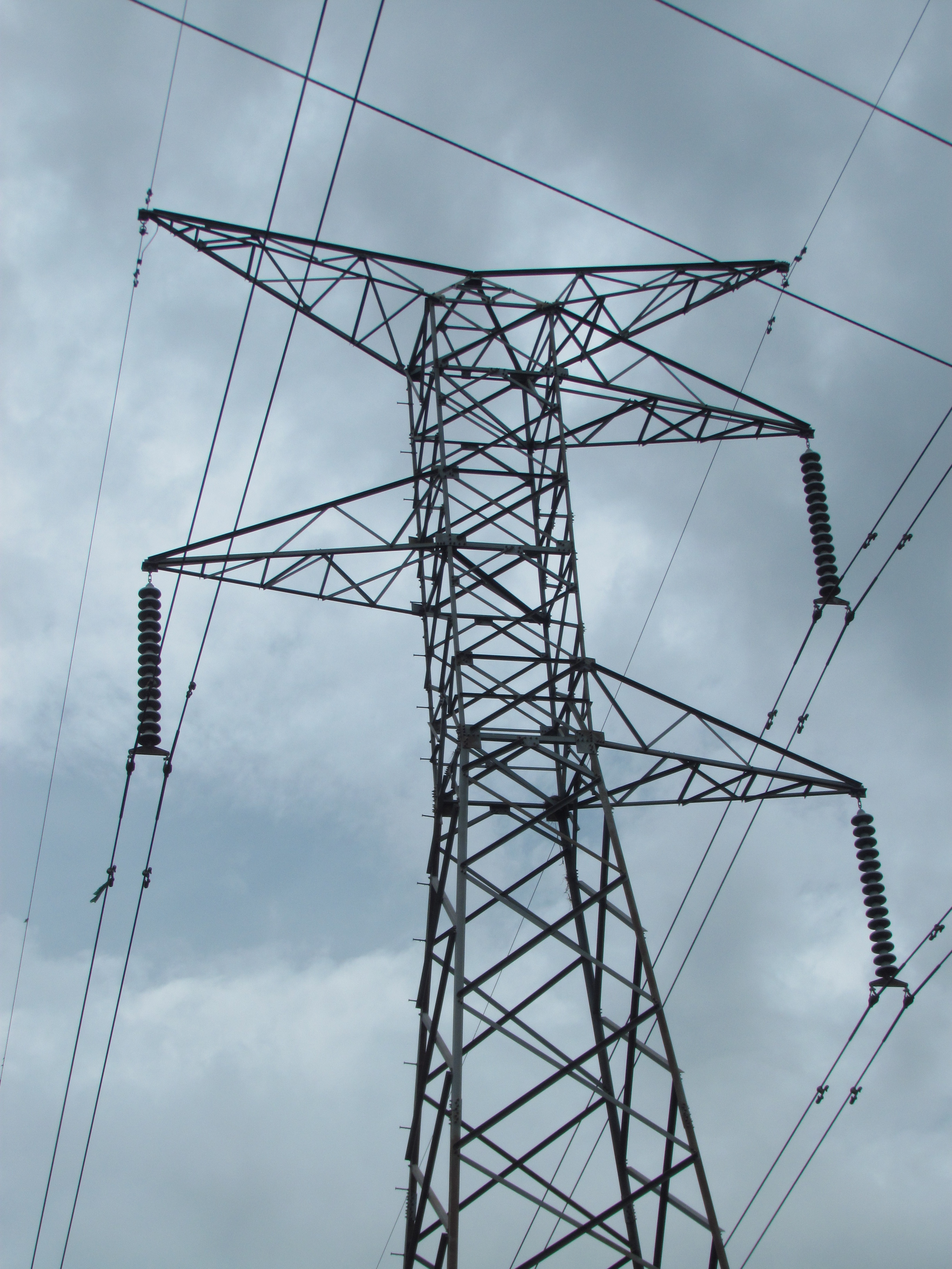insulator: (837, 792, 910, 993), (793, 438, 860, 626), (127, 579, 177, 764)
